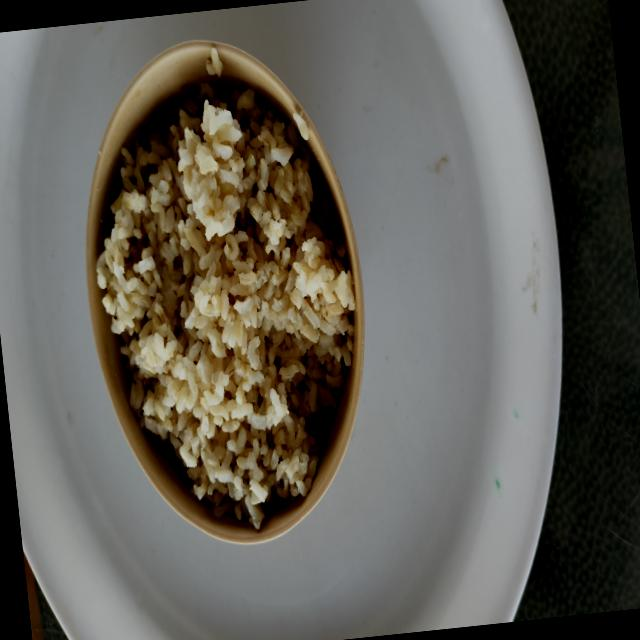brown-rice: (97, 83, 355, 529)
